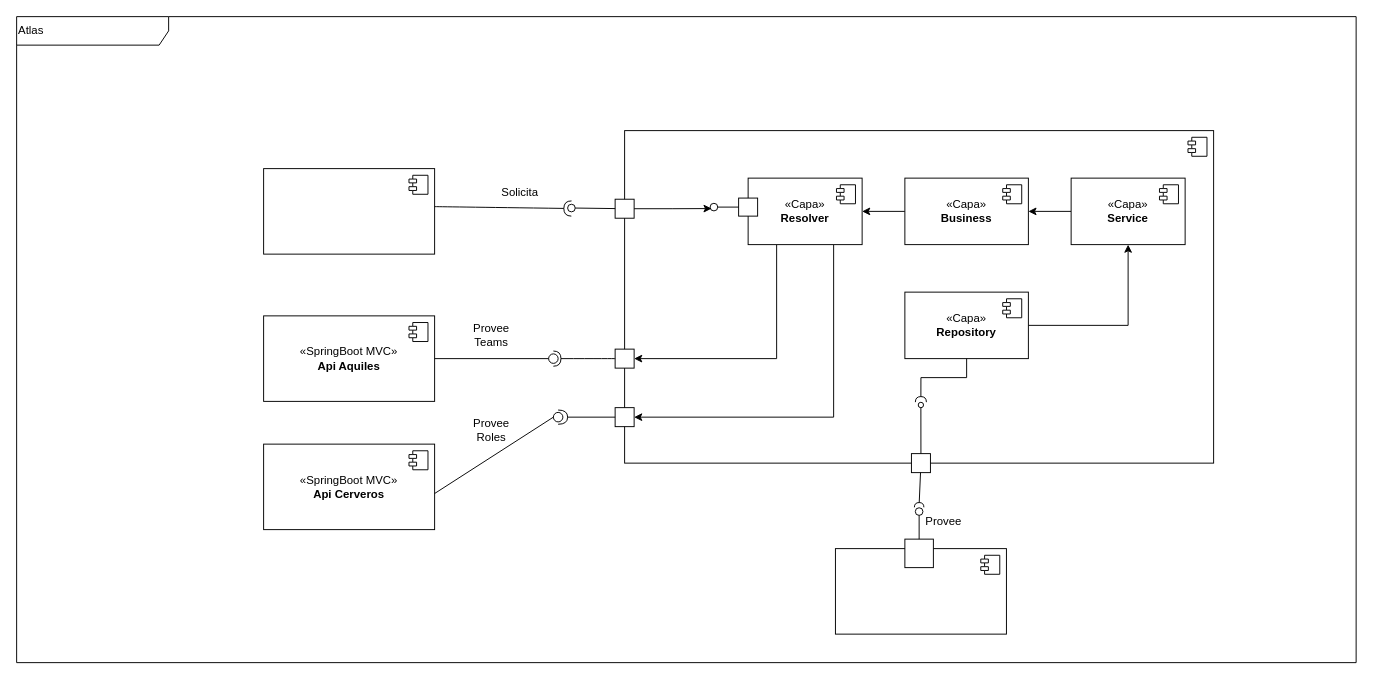
Image size: 1373x679. Some labels were removed from this diagram. Each missing label, with the box of its shape:
«PostgreeSQL» BD: (834, 548, 1006, 634)
«React (NextJS)» FrontEnd: (263, 168, 435, 254)
«Springboot MVC» Api Atlas: (624, 130, 1214, 463)
